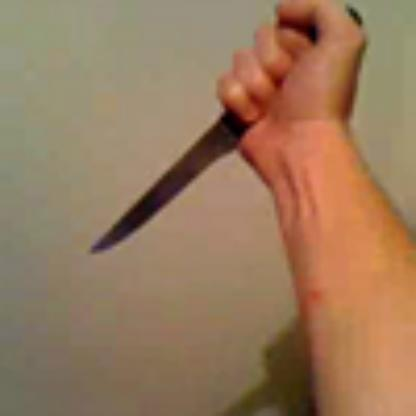knives: (87, 5, 369, 258)
